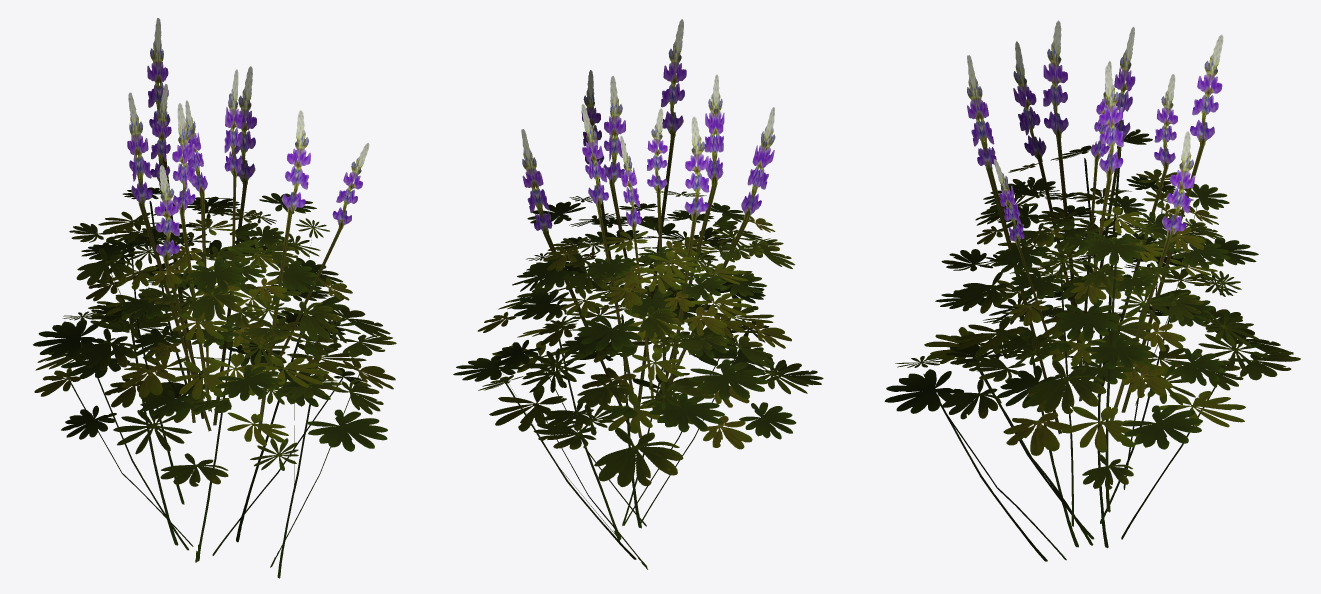
Rendered from arden_forest_lupin_03_foliage.fbx.
The picture shows the model from 3 angles, left to right: view 1: azimuth 30°, elevation 25°; view 2: azimuth 150°, elevation 25°; view 3: azimuth 270°, elevation 25°; orthographic projection. The views are drawn at different scales.
Parts seen in each view (by area): view 1: arden_forest_lupin_03_foliage; view 2: arden_forest_lupin_03_foliage; view 3: arden_forest_lupin_03_foliage.
Boxes of the visible parts, x1,y1,x2,y2 form: arden_forest_lupin_03_foliage: (33, 18, 396, 578); arden_forest_lupin_03_foliage: (453, 19, 823, 569); arden_forest_lupin_03_foliage: (884, 20, 1300, 561).
Bounding box in the file's own units: 105 × 153 × 115.
